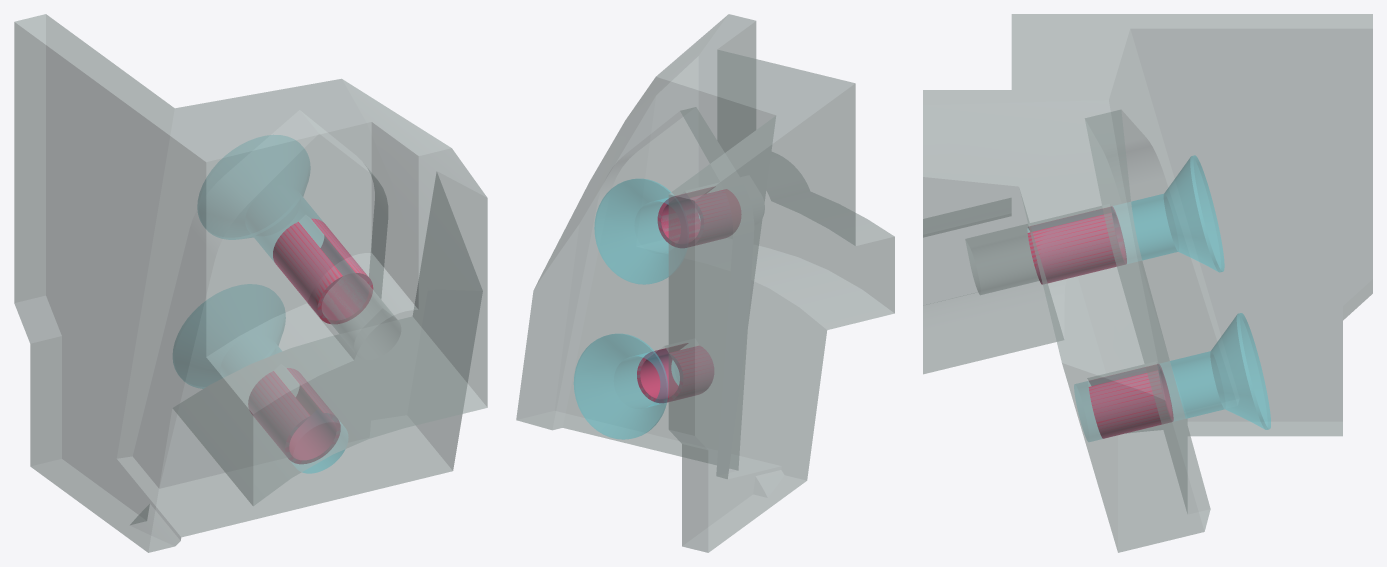
File: detail_before.glb
The picture shows the model from 3 angles, left to right: view 1: azimuth 30°, elevation 25°; view 2: azimuth 150°, elevation 25°; view 3: azimuth 270°, elevation 25°; orthographic projection. The views are drawn at different scales.
Visible parts, largest first — view 1: R-H-02 cropped 28..39 -31..-16 -2..13, /HACKberry_R_v14/R-H_v20/flatScrewM2L6PHI3_3T1_v1 (×2), Actual intersection (×2); view 2: R-H-02 cropped 28..39 -31..-16 -2..13, /HACKberry_R_v14/R-H_v20/flatScrewM2L6PHI3_3T1_v1 (×2), Actual intersection (×2); view 3: R-H-02 cropped 28..39 -31..-16 -2..13, /HACKberry_R_v14/R-H_v20/flatScrewM2L6PHI3_3T1_v1 (×2), Actual intersection (×2).
Boxes of the visible parts, bbox=[...] form: R-H-02 cropped 28..39 -31..-16 -2..13: bbox=[14, 14, 487, 552]; /HACKberry_R_v14/R-H_v20/flatScrewM2L6PHI3_3T1_v1 (×2): bbox=[173, 135, 371, 473]; Actual intersection (×2): bbox=[248, 218, 373, 463]; R-H-02 cropped 28..39 -31..-16 -2..13: bbox=[516, 14, 894, 552]; /HACKberry_R_v14/R-H_v20/flatScrewM2L6PHI3_3T1_v1 (×2): bbox=[573, 178, 699, 439]; Actual intersection (×2): bbox=[637, 187, 740, 402]; R-H-02 cropped 28..39 -31..-16 -2..13: bbox=[923, 14, 1372, 552]; /HACKberry_R_v14/R-H_v20/flatScrewM2L6PHI3_3T1_v1 (×2): bbox=[1028, 155, 1270, 441]; Actual intersection (×2): bbox=[1027, 206, 1173, 438].
Bounding box in the file's own units: 0.011 × 0.015 × 0.015.
